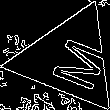M_NW: (34, 28, 103, 90)
